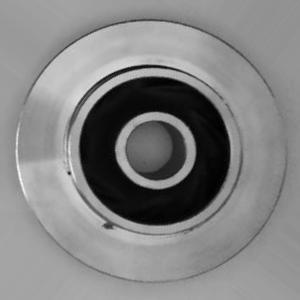defect: (65, 170, 127, 239)
